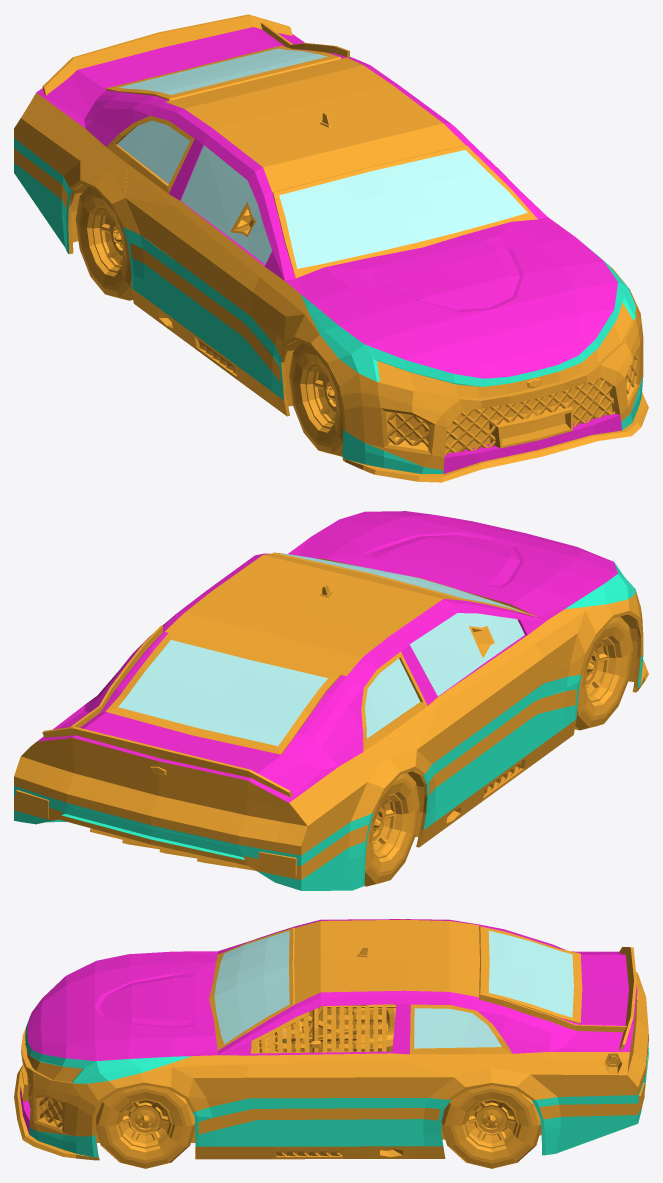
File: SM_Car_Nascar_Modern_Racing.fbx
The picture shows the model from 3 angles, top to bottom: view 1: azimuth 30°, elevation 25°; view 2: azimuth 150°, elevation 25°; view 3: azimuth 270°, elevation 25°; orthographic projection. The views are drawn at different scales.
Visible parts, largest first — view 1: SM_Car_Nascar_Modern_Racing_Base, SM_Car_Nascar_Modern_Racing_Wheel_RB, SM_Car_Nascar_Modern_Racing_Wheel_RF; view 2: SM_Car_Nascar_Modern_Racing_Base, SM_Car_Nascar_Modern_Racing_Wheel_RF, SM_Car_Nascar_Modern_Racing_Wheel_RB; view 3: SM_Car_Nascar_Modern_Racing_Base, SM_Car_Nascar_Modern_Racing_Wheel_LF, SM_Car_Nascar_Modern_Racing_Wheel_LB.
Boxes of the visible parts, x1,y1,x2,y2 form: SM_Car_Nascar_Modern_Racing_Base: (14,14,648,482); SM_Car_Nascar_Modern_Racing_Wheel_RB: (75,186,133,300); SM_Car_Nascar_Modern_Racing_Wheel_RF: (289,343,343,456); SM_Car_Nascar_Modern_Racing_Base: (14,511,648,890); SM_Car_Nascar_Modern_Racing_Wheel_RF: (575,616,633,730); SM_Car_Nascar_Modern_Racing_Wheel_RB: (364,773,419,886); SM_Car_Nascar_Modern_Racing_Base: (14,919,648,1160); SM_Car_Nascar_Modern_Racing_Wheel_LF: (96,1085,194,1168); SM_Car_Nascar_Modern_Racing_Wheel_LB: (441,1085,541,1168).
Size of the model in its own units: 2.34 by 1.52 by 5.2.
